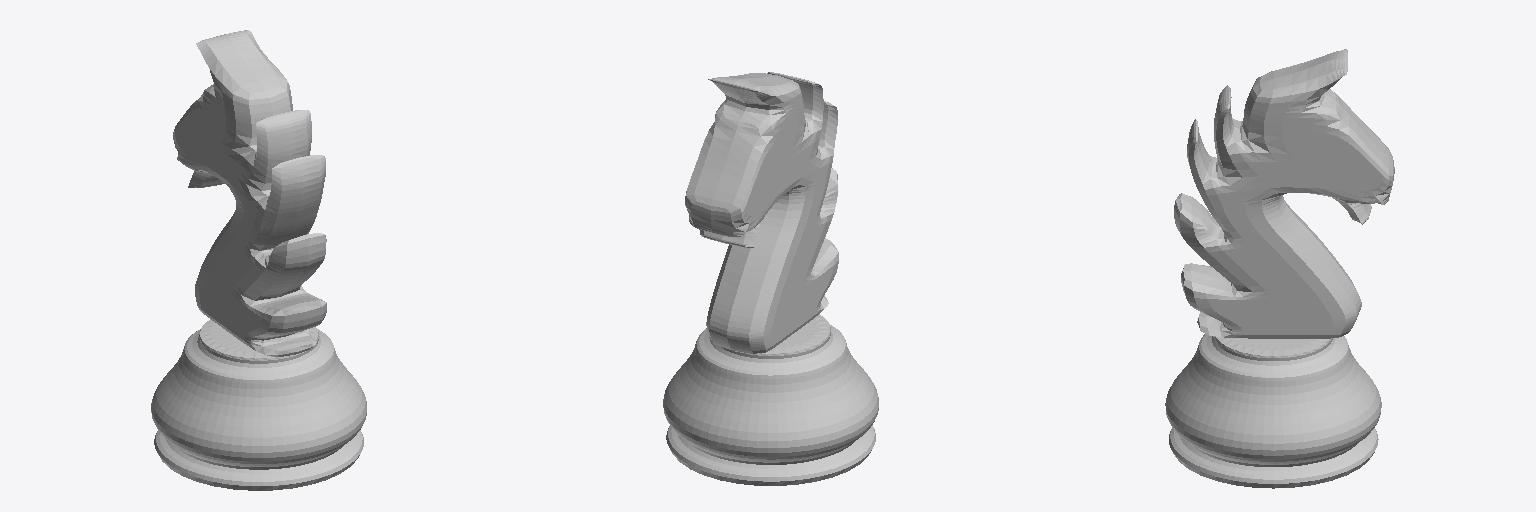
File: knight.obj
3 views of the same model, side by side, from view 1: azimuth 30°, elevation 25°; view 2: azimuth 150°, elevation 25°; view 3: azimuth 270°, elevation 25° (orthographic).
Parts seen in each view (by area): view 1: knight_Cylinder.033; view 2: knight_Cylinder.033; view 3: knight_Cylinder.033.
Part boxes in pixels (x1,y1,x2,y2): knight_Cylinder.033: (151,30,366,490); knight_Cylinder.033: (663,72,878,485); knight_Cylinder.033: (1165,49,1394,488).
Size of the model in its own units: 1.2 by 2.41 by 1.27.